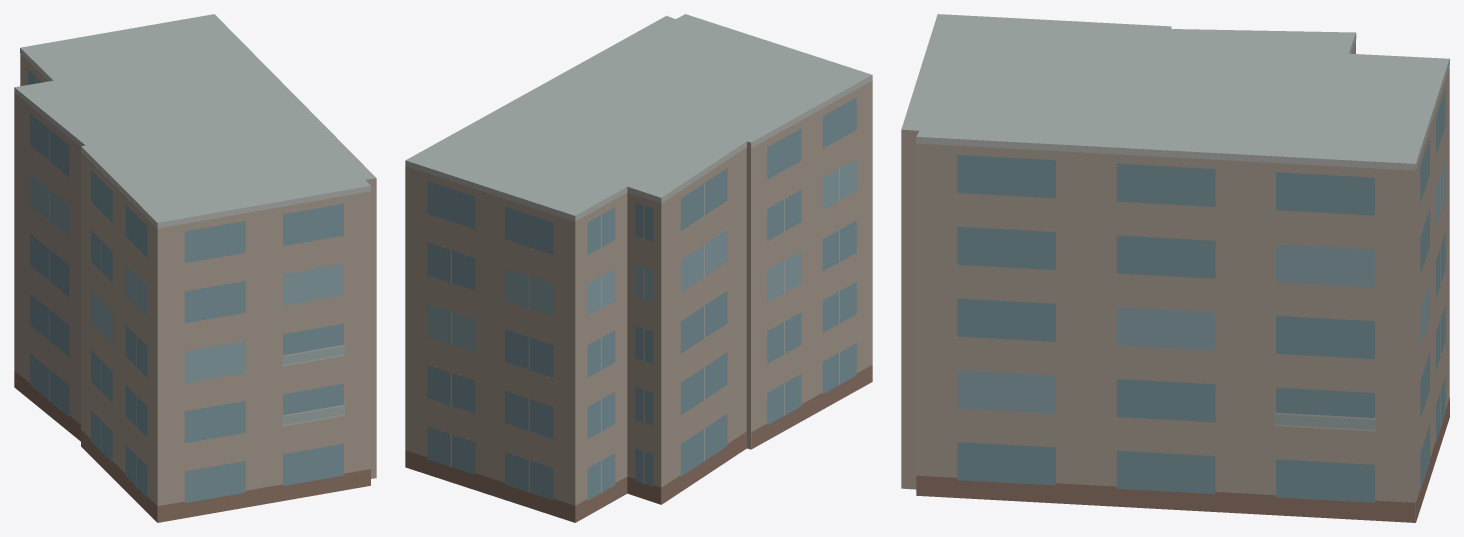
The model's file is survey-upis-32966285.glb.
3 views of the same model, side by side, from view 1: azimuth 30°, elevation 25°; view 2: azimuth 150°, elevation 25°; view 3: azimuth 270°, elevation 25° (orthographic). The views are drawn at different scales.
Visible parts, largest first — view 1: survey-upis-32966285.tmp; view 2: survey-upis-32966285.tmp; view 3: survey-upis-32966285.tmp.
Part boxes in pixels (x1,y1,x2,y2): survey-upis-32966285.tmp: (14, 14, 376, 522); survey-upis-32966285.tmp: (405, 14, 872, 522); survey-upis-32966285.tmp: (901, 14, 1449, 522).
Bounding box in the file's own units: 11.75 × 13.1 × 18.15.
